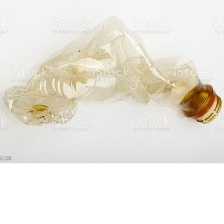bottle: (0, 11, 224, 129)
